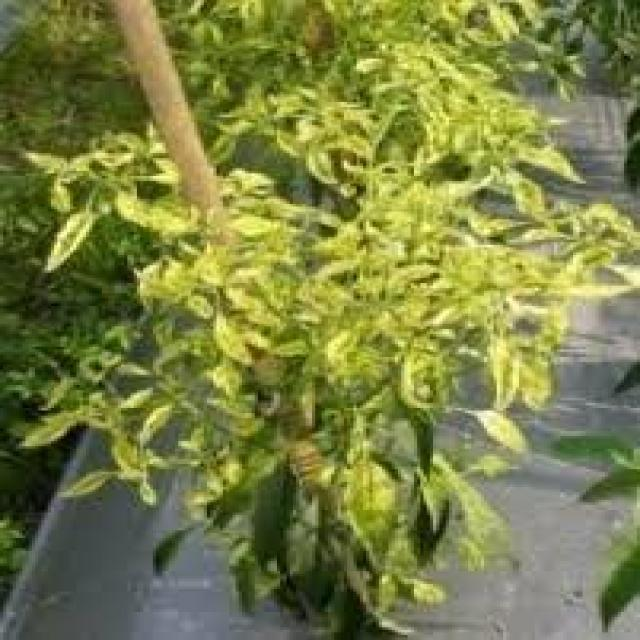Rust: (34, 49, 618, 624)
